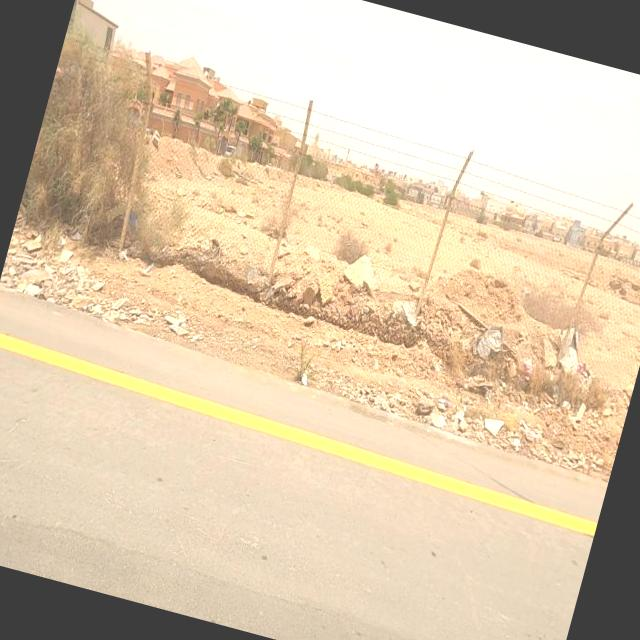debris: (504, 280, 638, 440), (406, 270, 546, 414), (112, 246, 234, 382), (388, 342, 503, 460), (27, 226, 122, 322), (91, 175, 172, 272), (108, 229, 186, 318), (498, 323, 556, 418)
